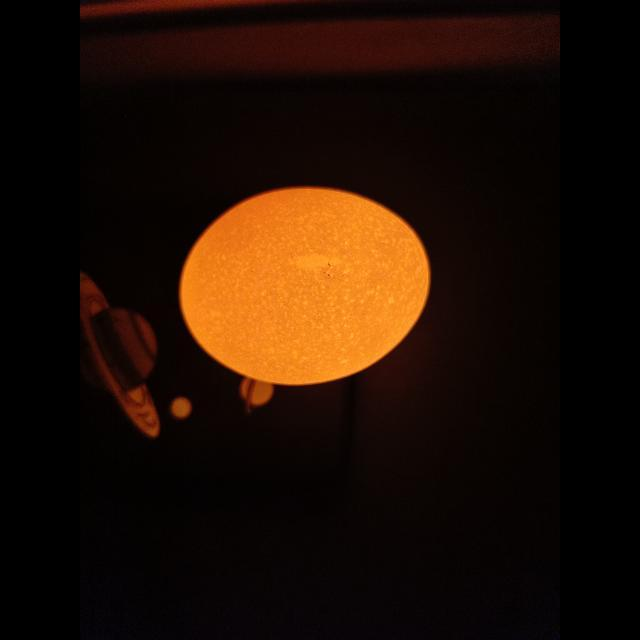AA - Premium: (180, 188, 430, 385)
